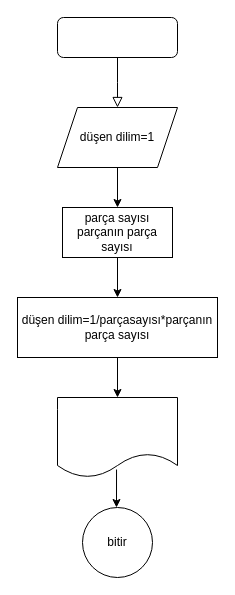
Image size: 235x595. Some labels were removed from this diagram. Each missing label, with the box of its shape:
Başla: (56, 16, 178, 58)
Düşen dilim: (56, 396, 178, 478)
